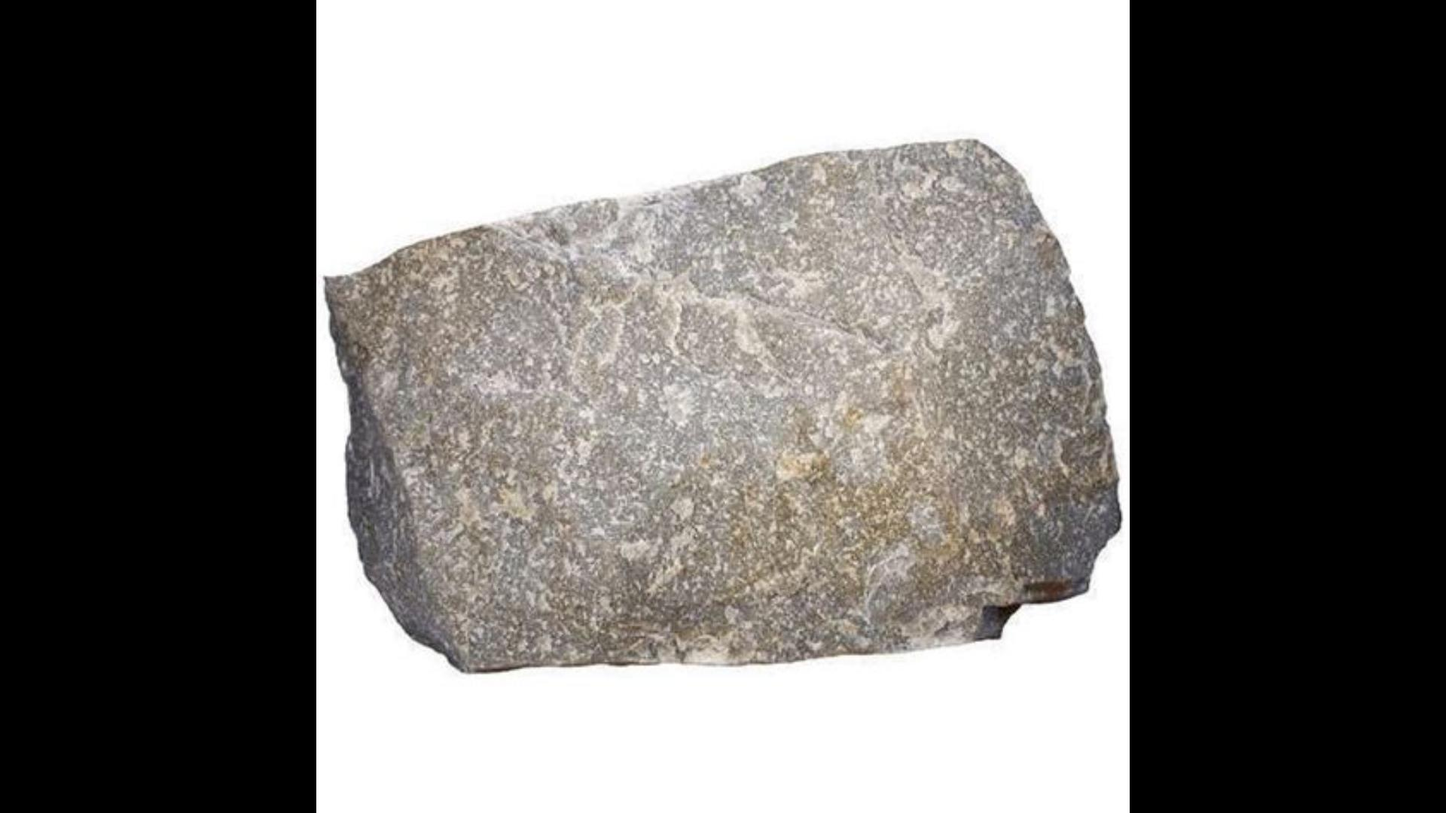rock: (328, 141, 1118, 669)
